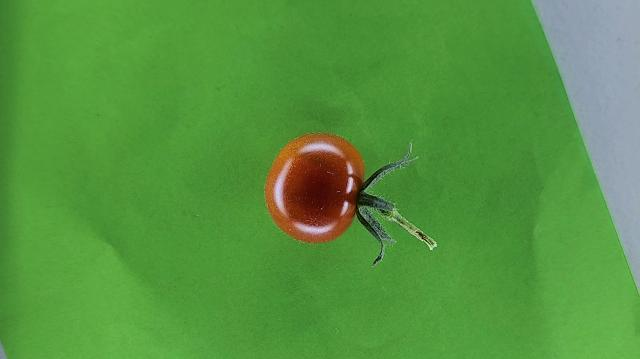Fully Grown: (262, 132, 366, 245)
